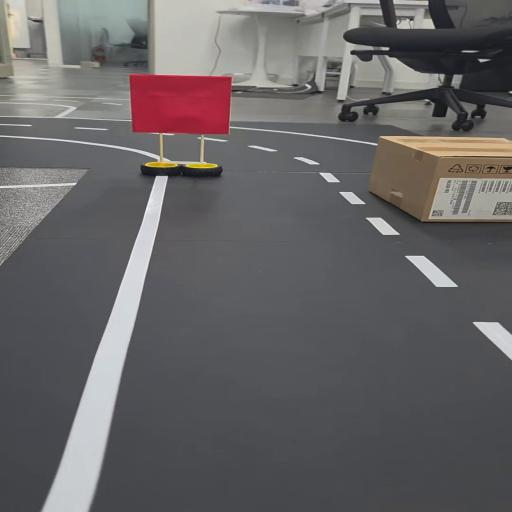Box: (379, 140, 512, 218)
Sign_A: (130, 78, 237, 182)
